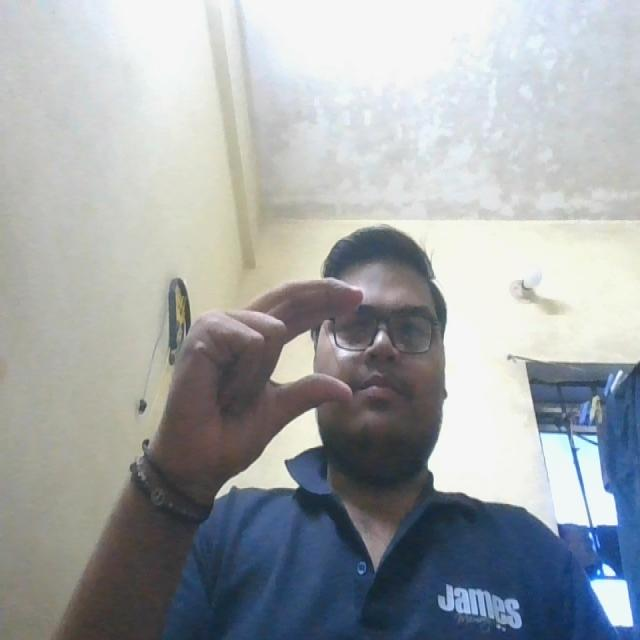No: (138, 250, 378, 478)
